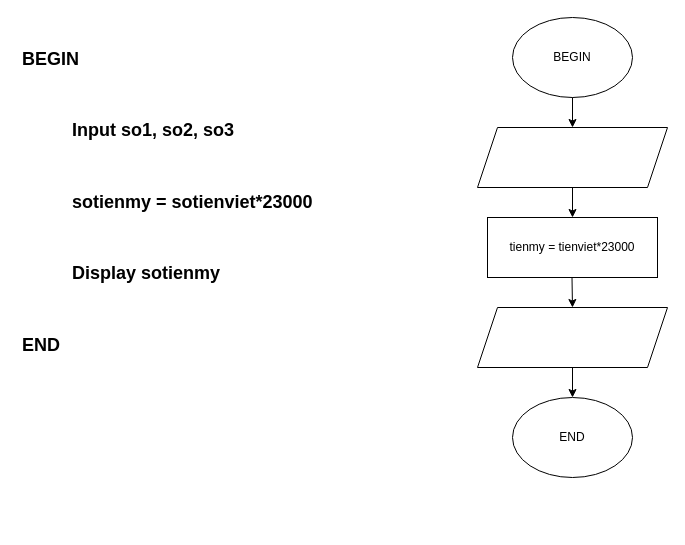
Image size: 685x545. Some labels were removed from this diagram. The centre of each missing label's shape, as x and y in pixels:
display tienmy: point (572, 337)
input tienviet: point (572, 157)
